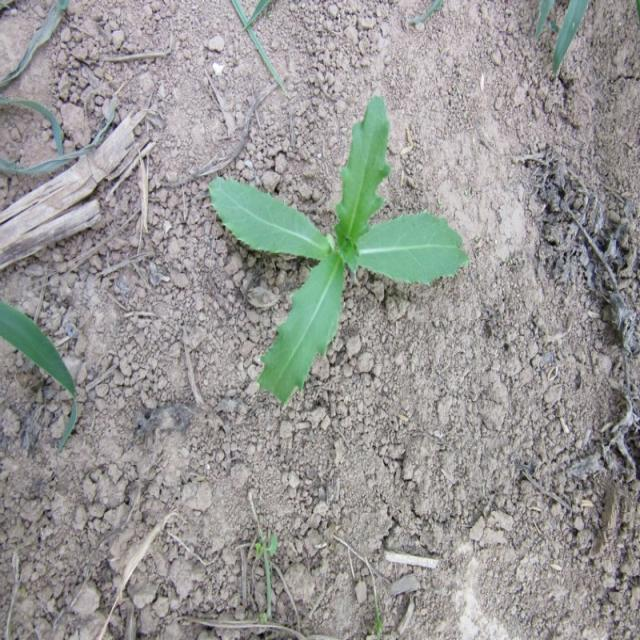field_thistle: (202, 88, 463, 388)
